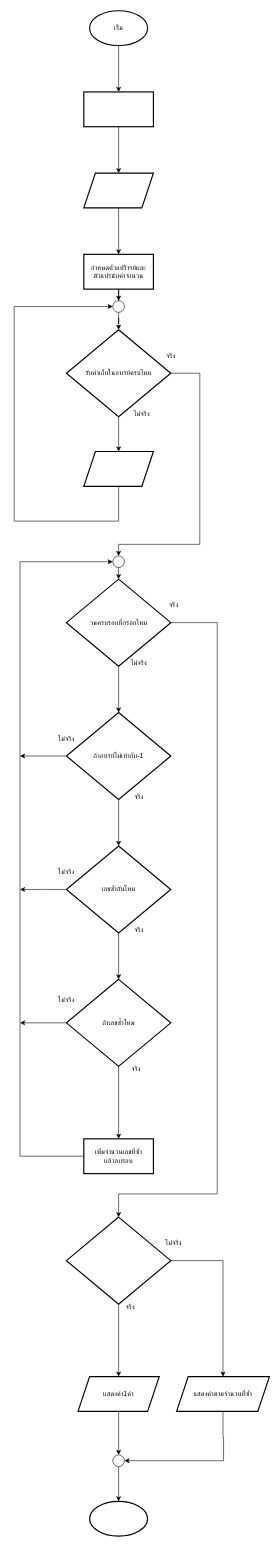
Some shapes in this 280 by 1546 pixel diagram are drawn without their labels. Here are the shapes that lost their labels. From the top down, the centre of each, then its label:
At point 118,109: "กำหนดตัวแปรรับค่าจำนวนอาเรยที่ผู้ใช้ต้องการกรอก".
At point 118,190: "รับค่าอาเรย์ที่ต้องการกรอก".
At point 118,469: "เก็บค่าอาเรย์".
At point 118,1260: "ถ้าจำนวนนับคือ0".
At point 118,1518: "จบ".
